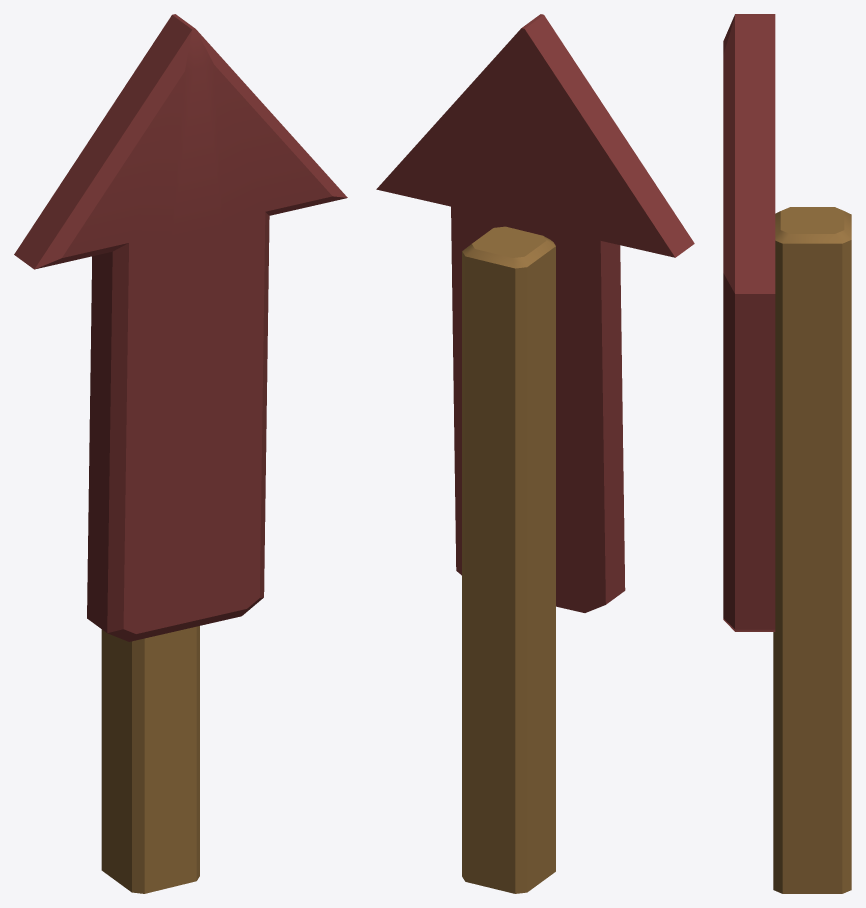
File: arrow_up.glb
3 views of the same model, side by side, from view 1: azimuth 30°, elevation 25°; view 2: azimuth 150°, elevation 25°; view 3: azimuth 270°, elevation 25° (orthographic). The views are drawn at different scales.
Visible parts, largest first — view 1: Arrow_Up; view 2: Arrow_Up; view 3: Arrow_Up.
Boxes of the visible parts, x1,y1,x2,y2 form: Arrow_Up: [14, 14, 347, 893]; Arrow_Up: [376, 14, 694, 893]; Arrow_Up: [723, 14, 851, 893].
Size of the model in its own units: 1.02 by 2.7 by 0.3632.
